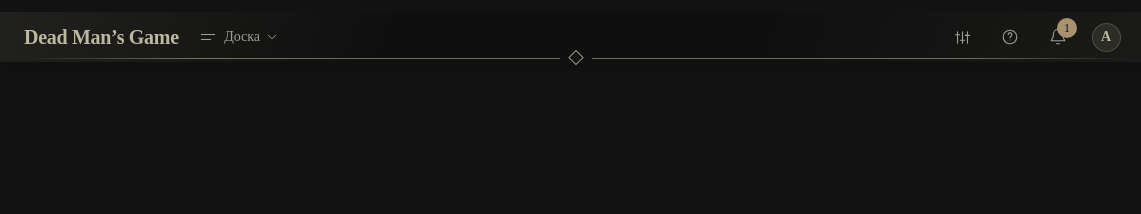
Test: PanelNavigation › hides cached staff requests after the game finishes or changes
Expected: the text "1" is shown, x1=1057 y1=18 x2=1077 y2=38
What coordinates should you click on to do the following:
click the button named "Открыть уведомления"
I would click on:
 (1058, 37)
Its box is x1=1036 y1=15 x2=1080 y2=59.
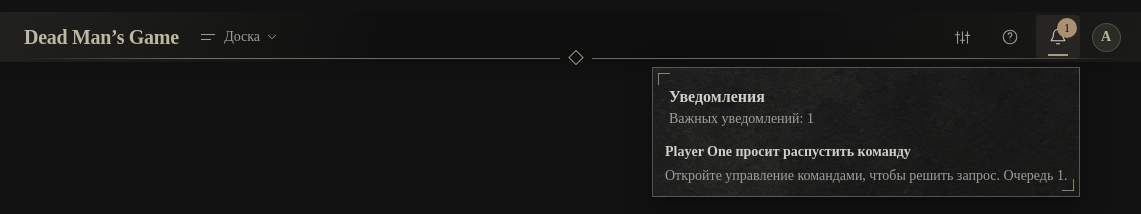
Result: the menu item "Player One просит распустить команду" is shown at x1=653 y1=139 x2=1079 y2=188
Result: the text "Очередь 1" is shown at x1=665 y1=168 x2=1067 y2=183
